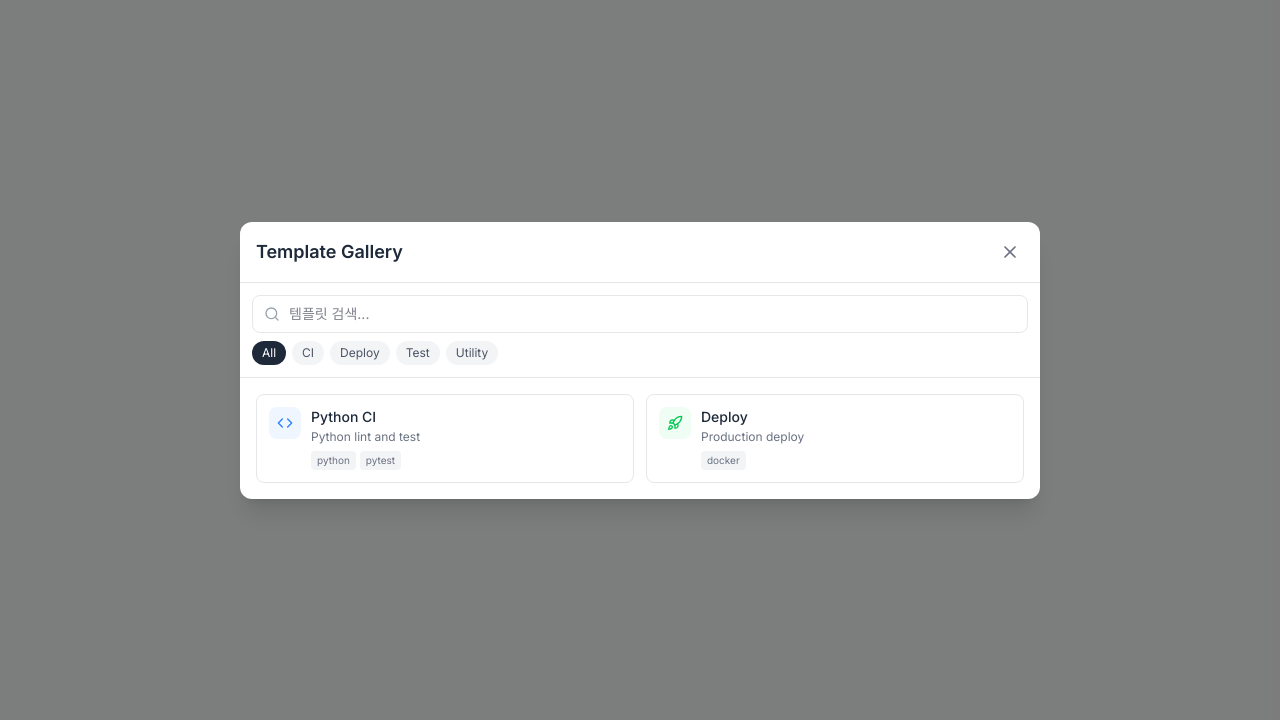
Test case: TemplateGallery › navigates to preview on template click
Click the heading "Python CI" at (344, 416), box top-left (311, 408), bottom-right (376, 424)
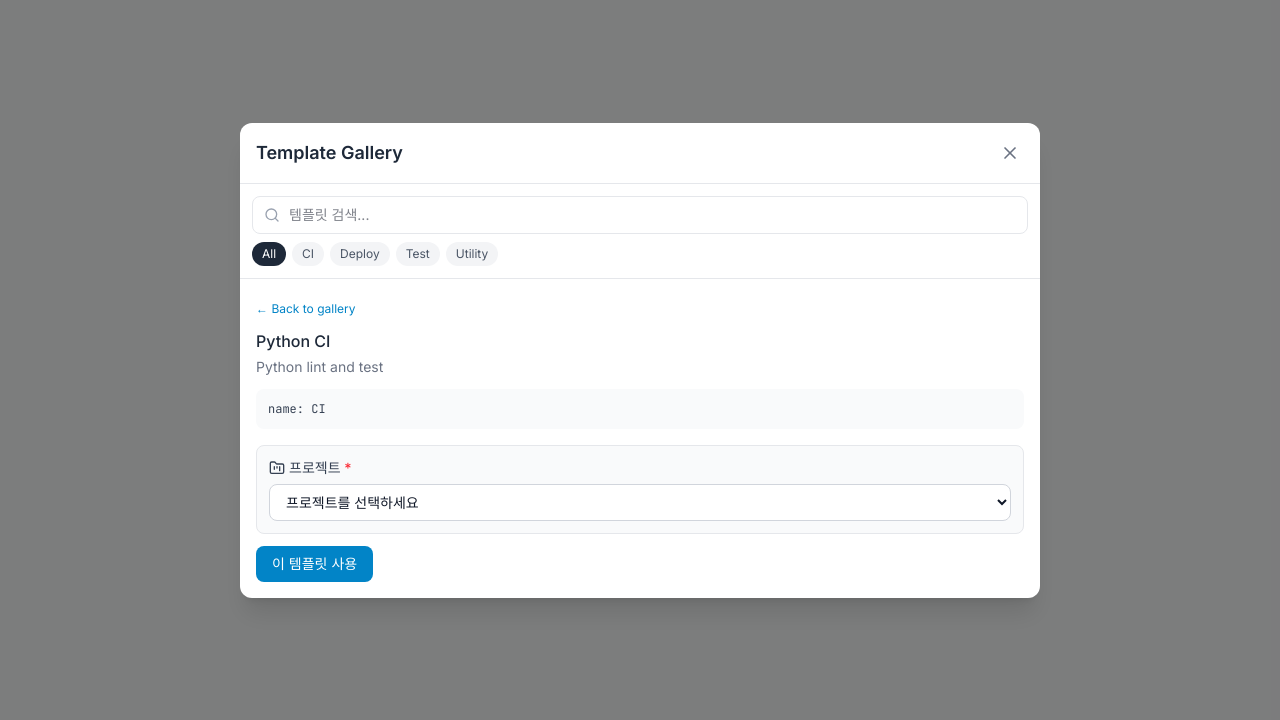
Result: the text "name: CI" is shown at top-left (256, 388), bottom-right (1024, 428)
